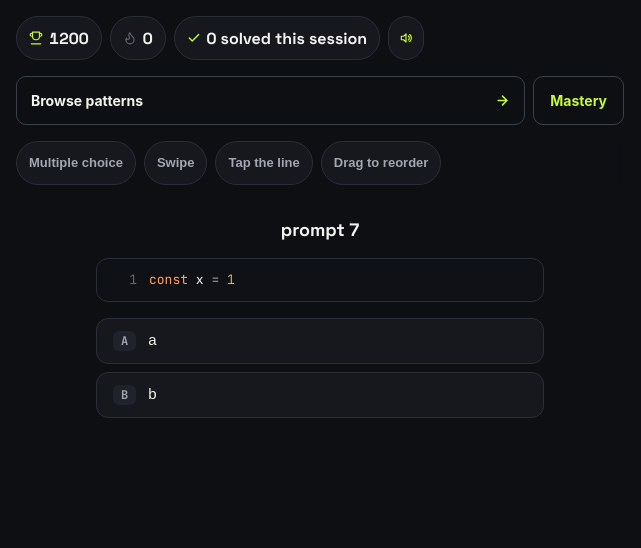
Test: PracticePage › answering and continuing serves a fresh, unanswered card
Expected: the text "prompt 7" is shown, [281, 218, 359, 241]
Click the button "A a". click: (125, 341)
box: [96, 318, 544, 364]
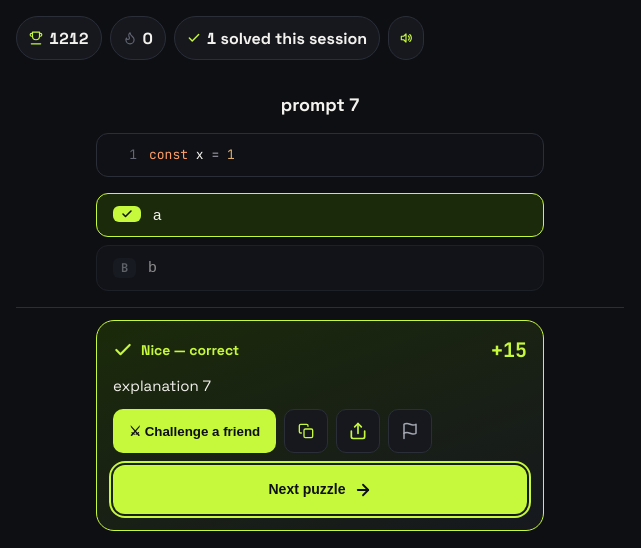
Expected: the message "Nice — correct +15 explanation 7 ⚔ Challenge a friend Next puzzle" is shown, [96, 320, 544, 531]
Click the button "Next puzzle". click: (320, 490)
box: [113, 465, 527, 514]
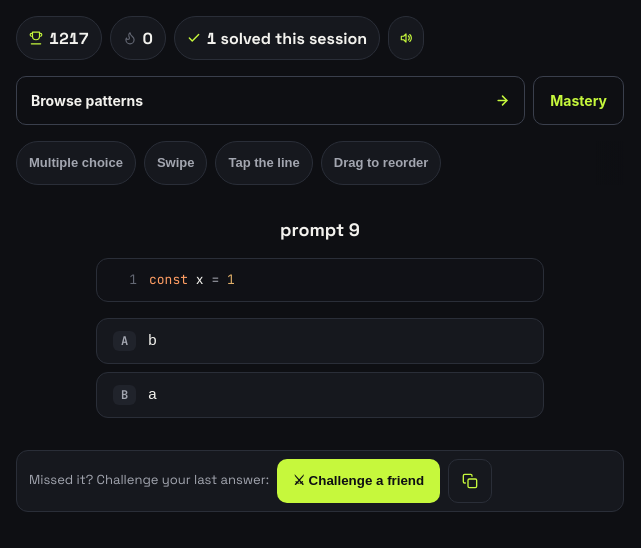
Expected: the message "Nice — correct +15 explanation 7 ⚔ Challenge a friend Next puzzle" is gone
